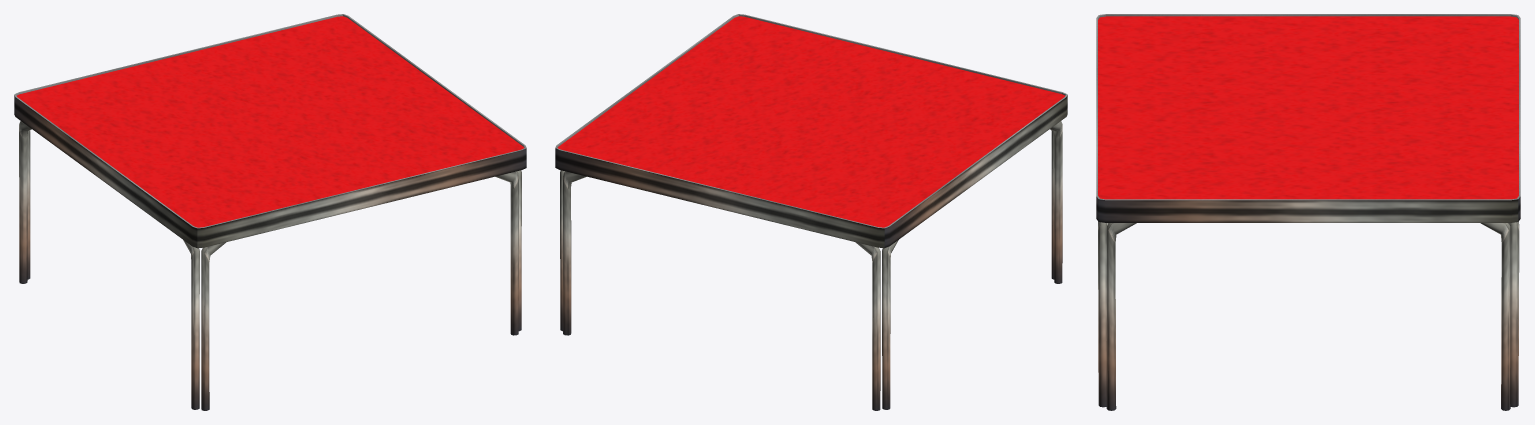
Rendered from Dining_Table_04_A.FBX.
3 views of the same model, side by side, from view 1: azimuth 30°, elevation 25°; view 2: azimuth 150°, elevation 25°; view 3: azimuth 270°, elevation 25° (orthographic). The views are drawn at different scales.
Visible parts, largest first — view 1: Dining_Table; view 2: Dining_Table; view 3: Dining_Table.
Part boxes in pixels (x1,y1,x2,y2): Dining_Table: (14, 14, 526, 410); Dining_Table: (555, 14, 1067, 410); Dining_Table: (1096, 14, 1520, 410).
Bounding box in the file's own units: 264 × 140 × 254.
